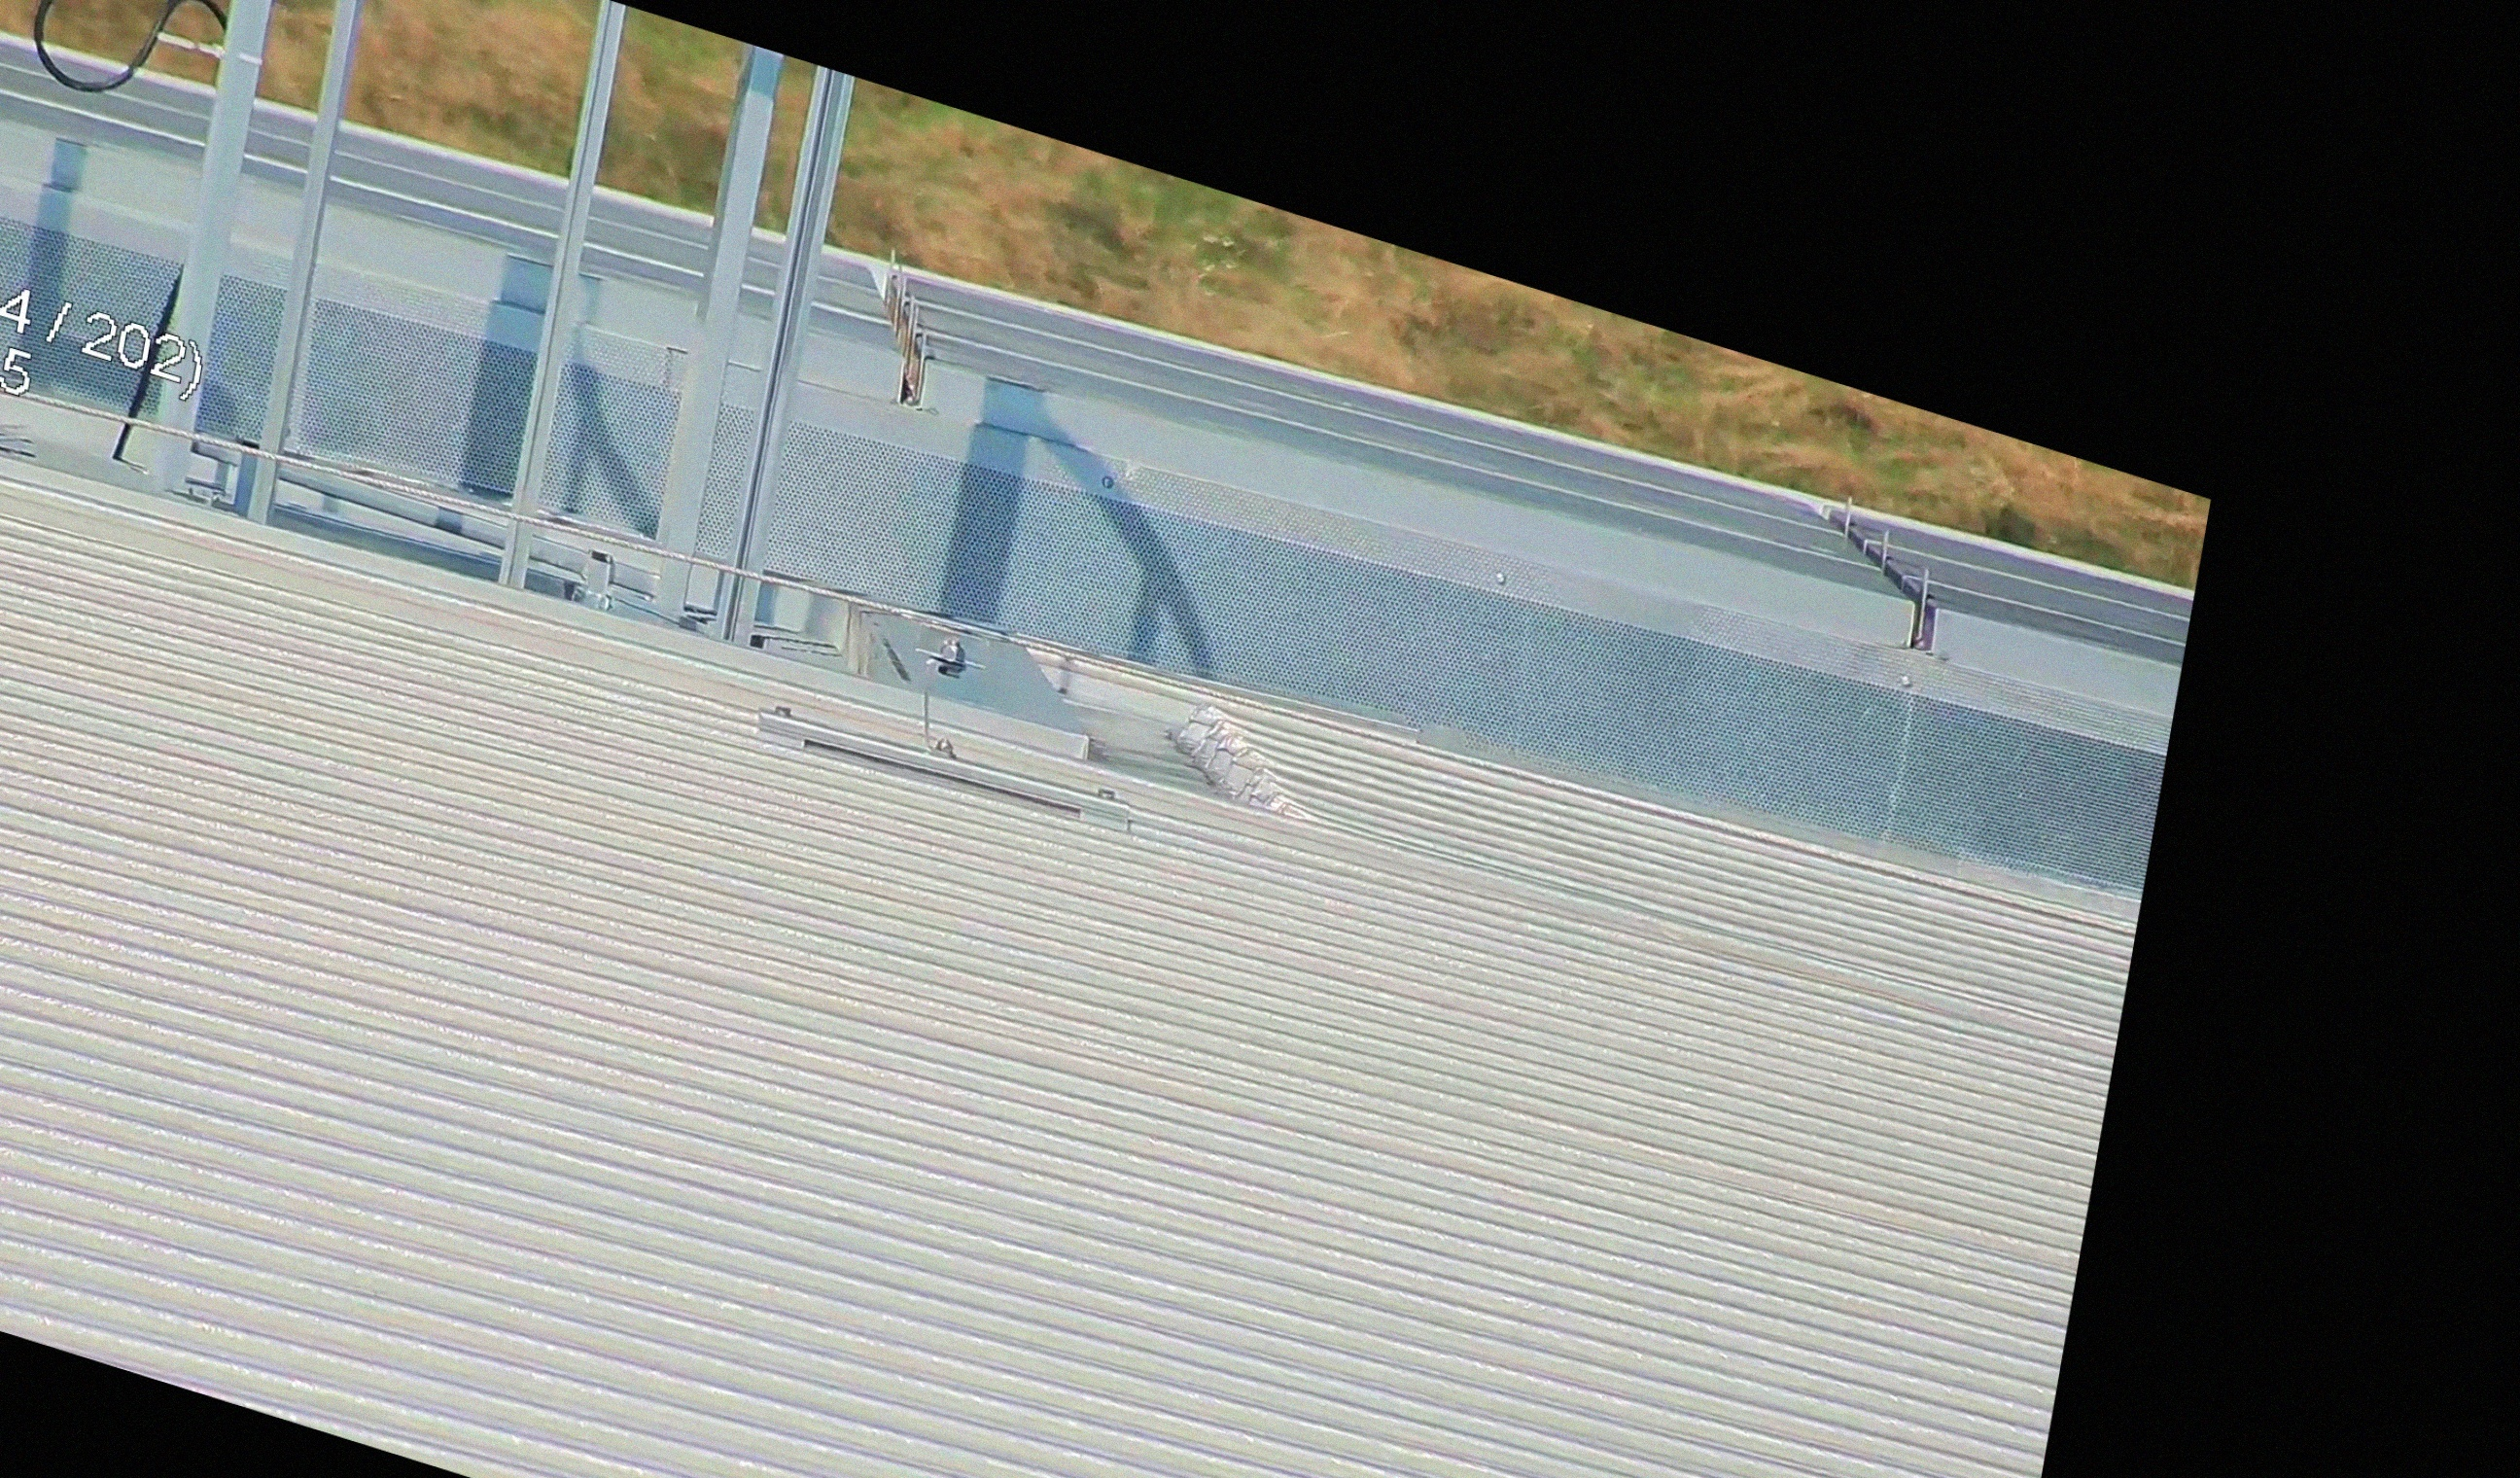Other: (1148, 684, 1340, 838)
